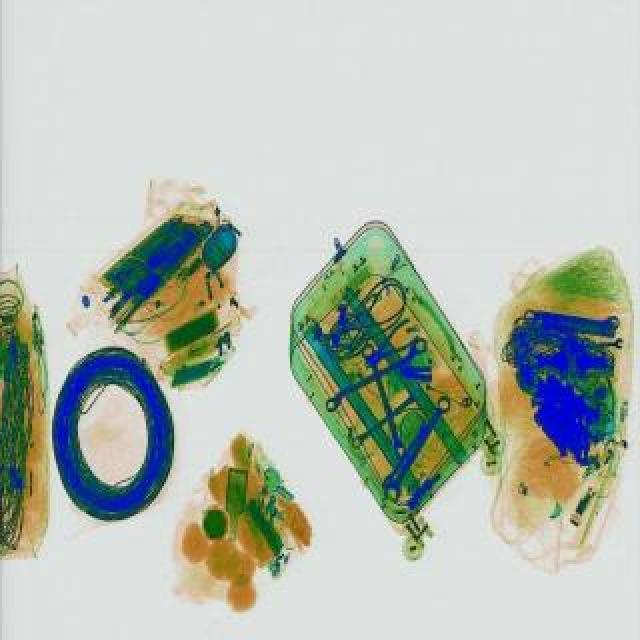scissors: (378, 390, 458, 502), (320, 334, 432, 414), (356, 342, 412, 458), (346, 384, 426, 448), (524, 308, 620, 326), (564, 376, 608, 412), (588, 336, 622, 352)
wrench: (356, 318, 422, 374)
